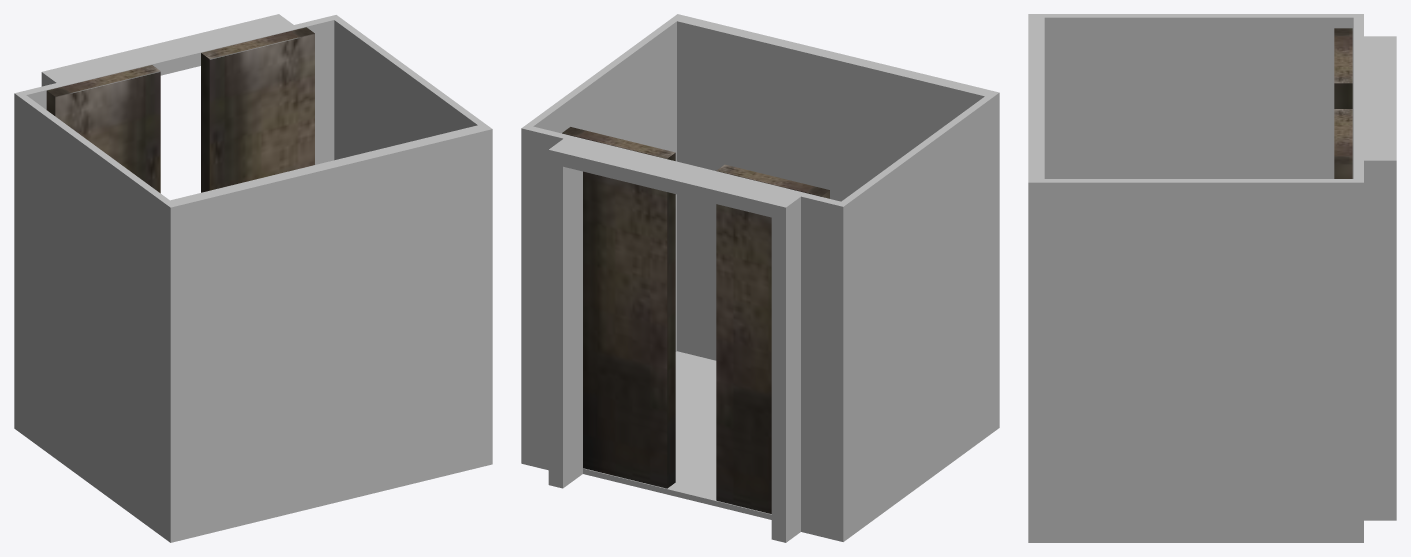
File: out_of_order_elevator.FBX
3 views of the same model, side by side, from view 1: azimuth 30°, elevation 25°; view 2: azimuth 150°, elevation 25°; view 3: azimuth 270°, elevation 25° (orthographic). The views are drawn at different scales.
Parts seen in each view (by area): view 1: elevator, elevator_door_l, elevator_door_r; view 2: elevator, elevator_door_l, elevator_door_r, elevator_floor; view 3: elevator, elevator_door_r, elevator_door_l.
Boxes of the visible parts, box(x1,y1,x2,y2) form: elevator: box(14, 14, 492, 542); elevator_door_l: box(201, 27, 314, 192); elevator_door_r: box(46, 65, 160, 193); elevator: box(521, 14, 999, 542); elevator_door_l: box(562, 127, 675, 488); elevator_door_r: box(716, 164, 829, 513); elevator_floor: box(583, 351, 771, 519); elevator: box(1028, 14, 1396, 542); elevator_door_r: box(1334, 28, 1352, 108); elevator_door_l: box(1334, 109, 1352, 178).
Size of the model in its own units: 184 by 183 by 169.
